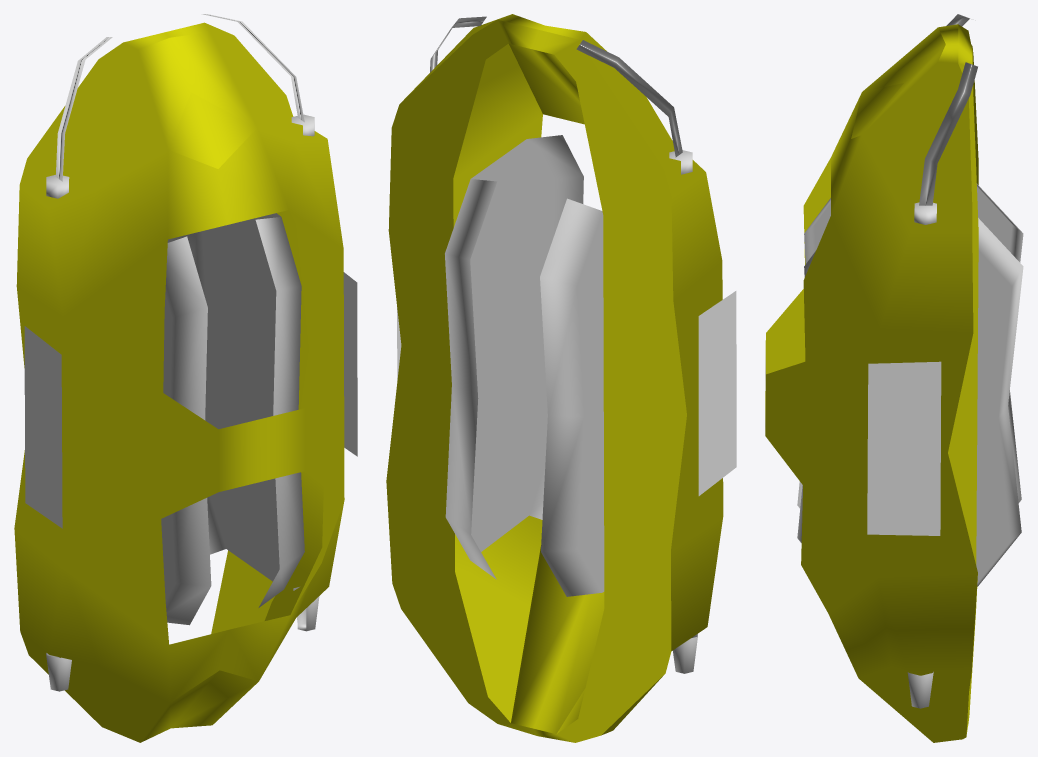
Rendered from Shared_Caliper_Car_Subaru_ImprezaWRX_2010_Caliper03_M_FL.fbx.
3 renders of one model, left to right at view 1: azimuth 30°, elevation 25°; view 2: azimuth 150°, elevation 25°; view 3: azimuth 270°, elevation 25°, orthographic. The views are drawn at different scales.
Visible parts, largest first — view 1: Car_Subaru_ImprezaWRX_2010_Caliper03_M_FL 1; view 2: Car_Subaru_ImprezaWRX_2010_Caliper03_M_FL 1; view 3: Car_Subaru_ImprezaWRX_2010_Caliper03_M_FL 1.
Part boxes in pixels (bbox=[...]): Car_Subaru_ImprezaWRX_2010_Caliper03_M_FL 1: bbox=[14, 14, 357, 742]; Car_Subaru_ImprezaWRX_2010_Caliper03_M_FL 1: bbox=[386, 14, 736, 742]; Car_Subaru_ImprezaWRX_2010_Caliper03_M_FL 1: bbox=[765, 14, 1023, 742].
Bounding box in the file's own units: 0.1469 × 0.3305 × 0.1127.
